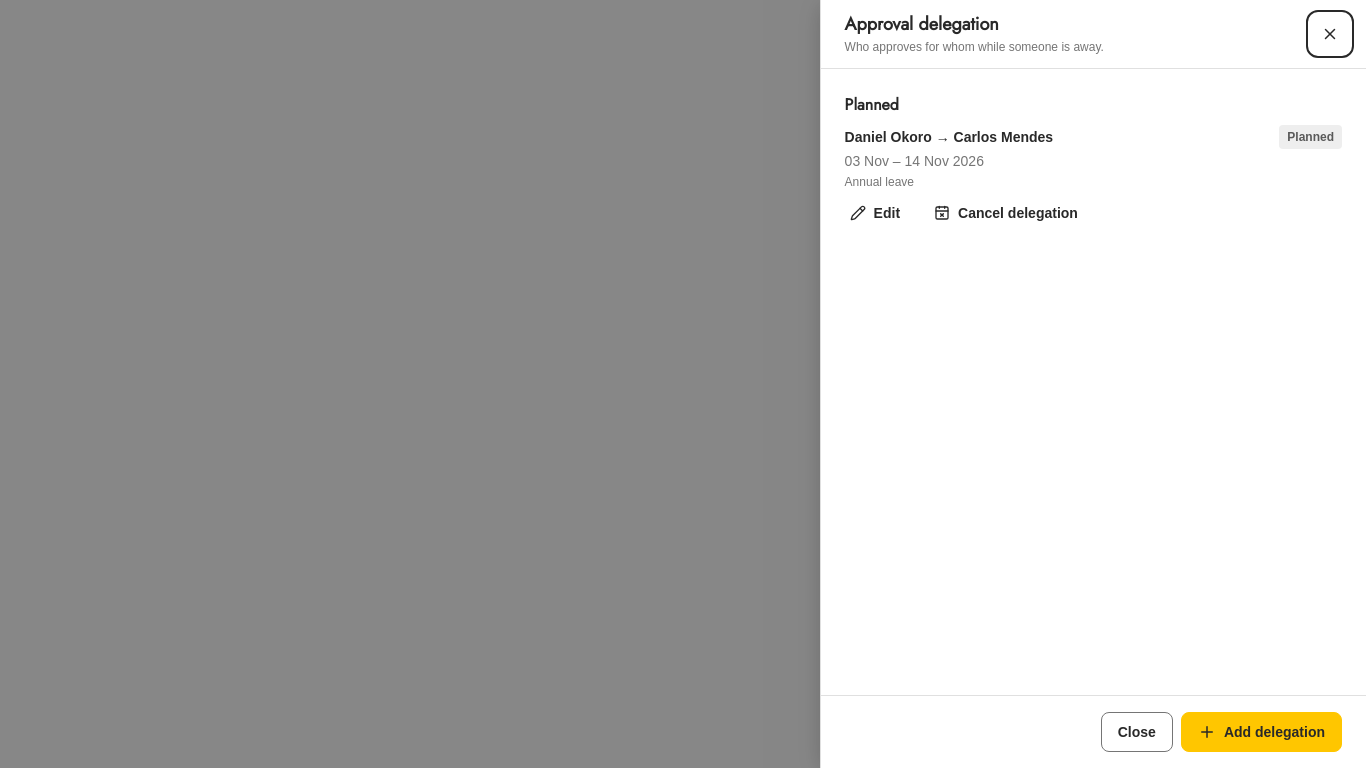
Test: DelegationPanel (feature 017, US4) › cancels a delegation after asking, and says so (FR-024)
Click the button with aria-label "Cancel delegation Daniel Okoro → Carlos" at x=1006, y=213, box 921,197 -> 1091,229
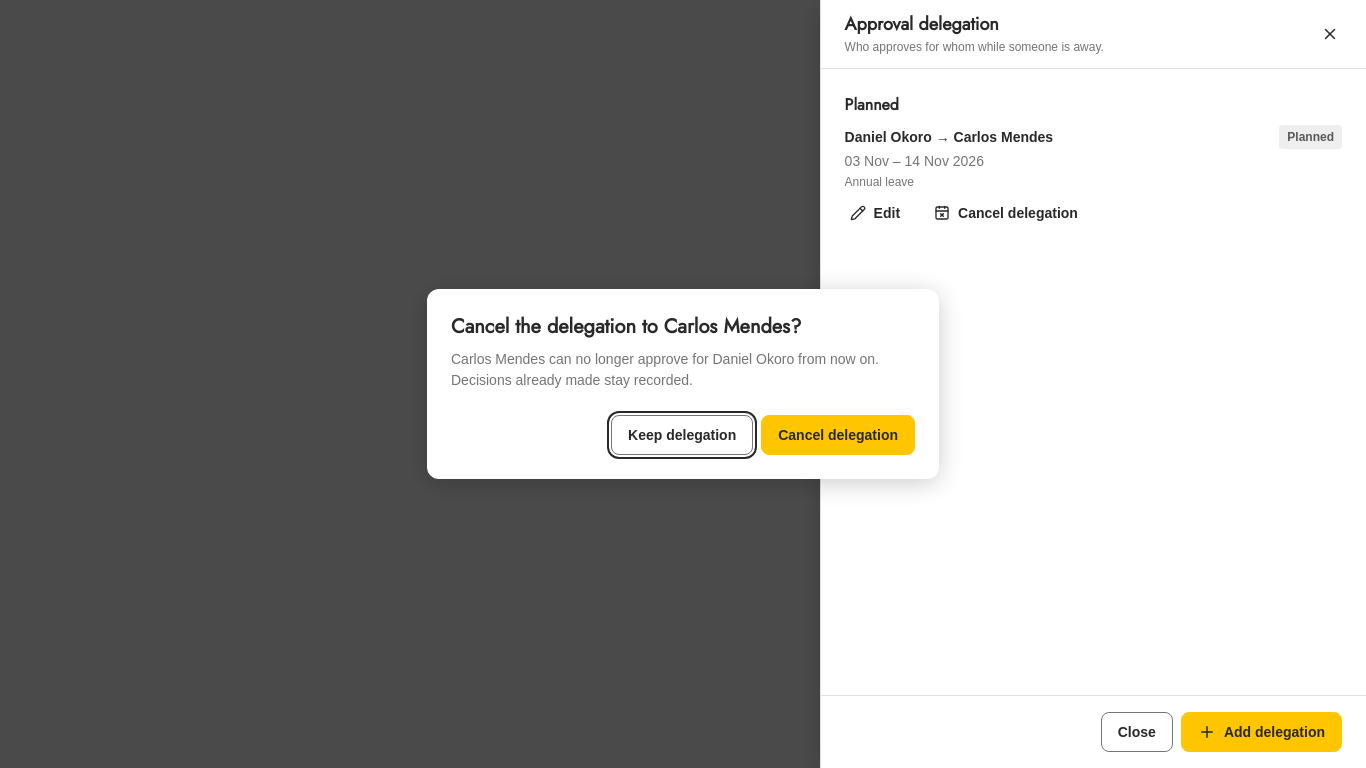
Expected: the dialog "Cancel the delegation to Carlos Mendes?" shows "Carlos Mendes can no longer approve for Daniel Okoro from now on. Decisions already made stay recorded.", 451,351 -> 879,388
Expected: the button "Keep delegation" is shown, 611,415 -> 753,455
Click the button "Cancel delegation" at x=838, y=435, box 761,415 -> 915,455
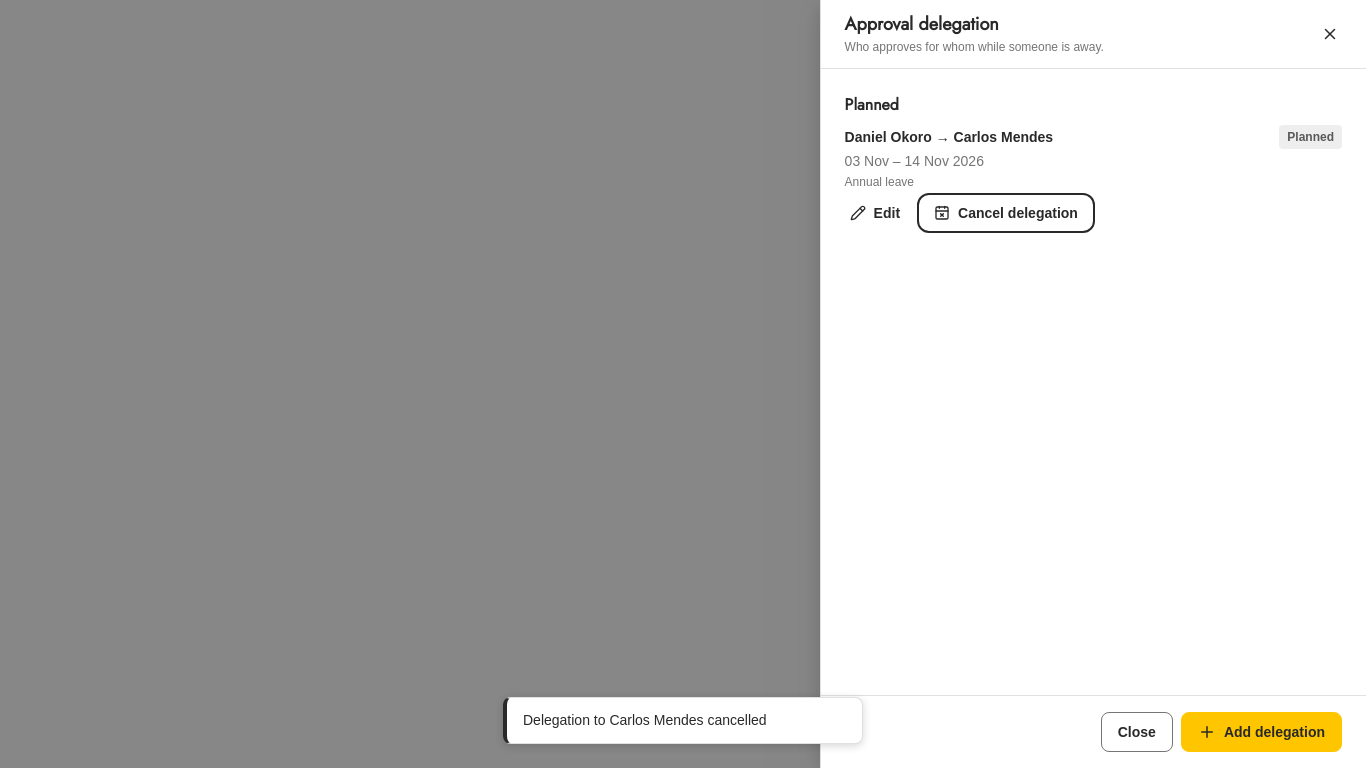
Expected: the text "Delegation to Carlos Mendes cancelled" is shown, 523,712 -> 767,728
